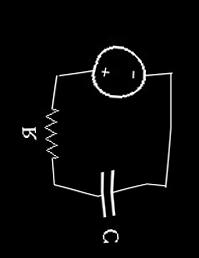Battery: (80, 39, 154, 103)
